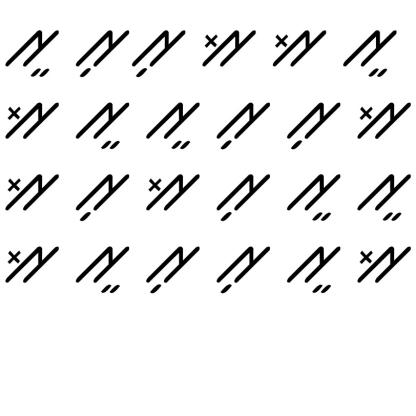wah: (72, 238, 131, 297), (286, 238, 343, 298), (356, 165, 413, 224), (341, 24, 398, 81), (74, 95, 131, 152), (286, 168, 343, 223), (4, 26, 62, 80), (144, 96, 201, 150)
wo: (2, 165, 61, 218), (198, 24, 256, 74), (1, 99, 62, 145), (143, 168, 202, 215), (355, 96, 411, 145), (2, 239, 60, 285), (270, 24, 328, 70), (354, 244, 413, 288)
wu: (70, 164, 134, 226), (213, 239, 273, 296), (214, 167, 273, 224), (285, 97, 343, 153), (73, 25, 131, 80), (214, 98, 272, 153), (144, 240, 200, 296), (131, 31, 188, 78)
